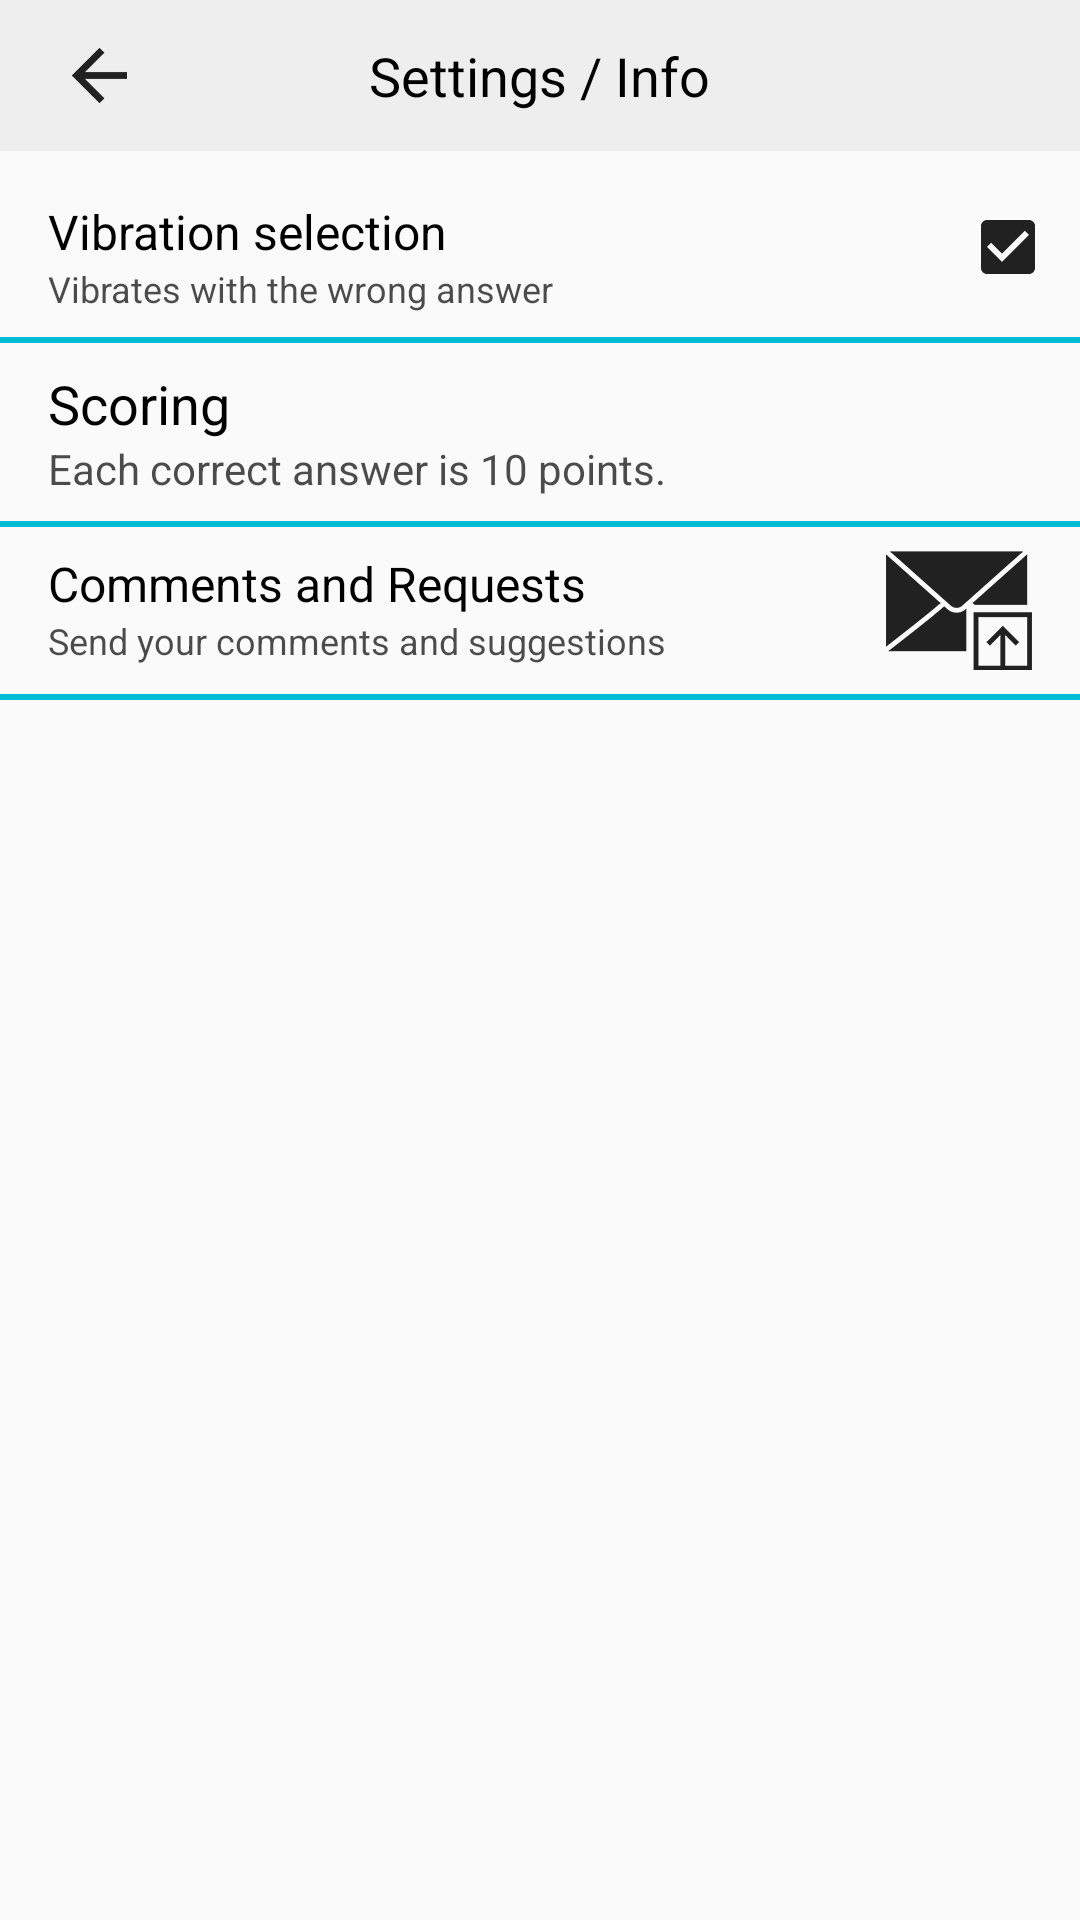

Point at icon controls on the screen. Image size 1080px x 1920px, points as point (x, y).
back arrow: point (99, 75)
sendemail: point (959, 610)
